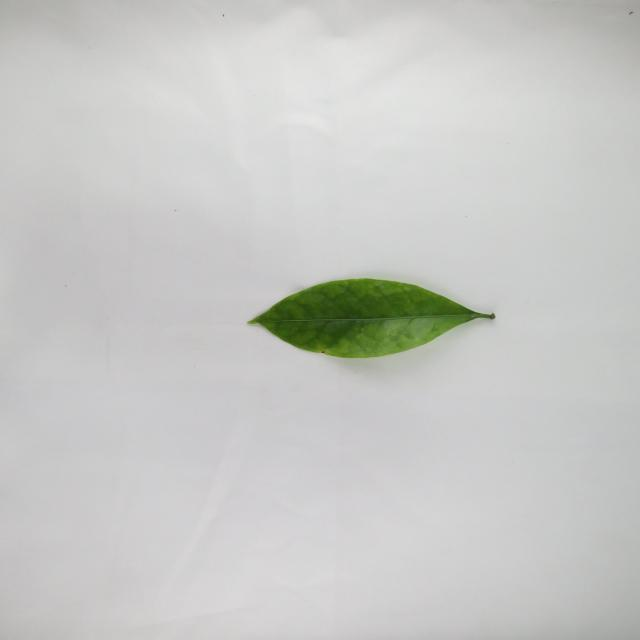DeficienciaNutricional-Manganeso: (248, 279, 495, 358)
